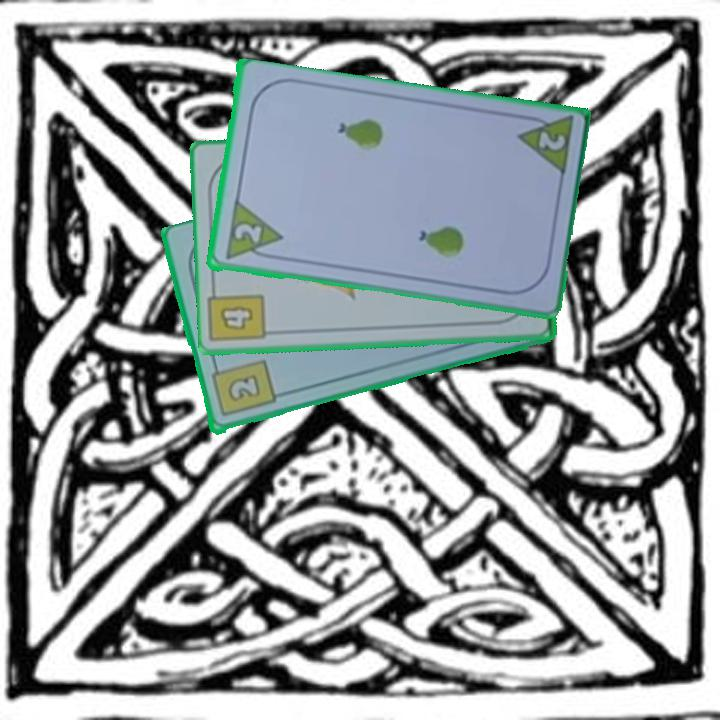2b: (207, 357, 278, 420)
2p: (512, 111, 576, 180), (230, 220, 265, 247)
4b: (216, 302, 255, 334)
